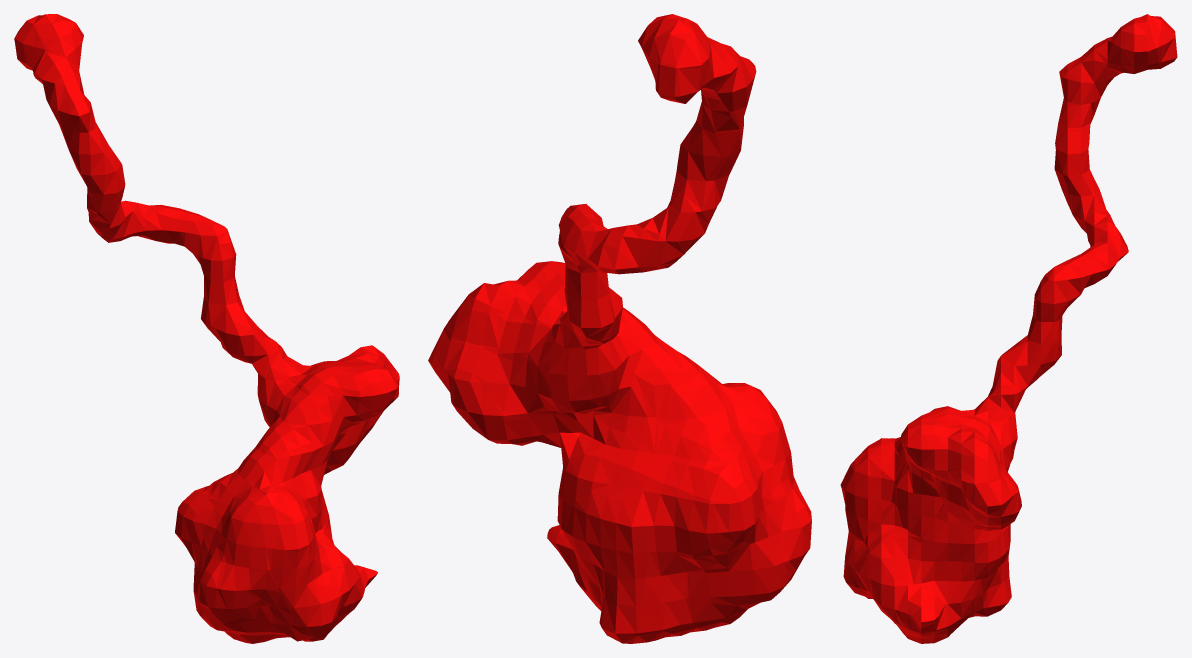
The model's file is eutC_coarse.dae.
3 views of the same model, side by side, from view 1: azimuth 30°, elevation 25°; view 2: azimuth 150°, elevation 25°; view 3: azimuth 270°, elevation 25° (orthographic). The views are drawn at different scales.
Visible parts, largest first — view 1: eutC; view 2: eutC; view 3: eutC.
Part boxes in pixels (bbox=[...]): eutC: bbox=[14, 14, 399, 643]; eutC: bbox=[428, 14, 811, 643]; eutC: bbox=[840, 14, 1177, 643].
Size of the model in its own units: 77.16 by 145 by 79.25.
